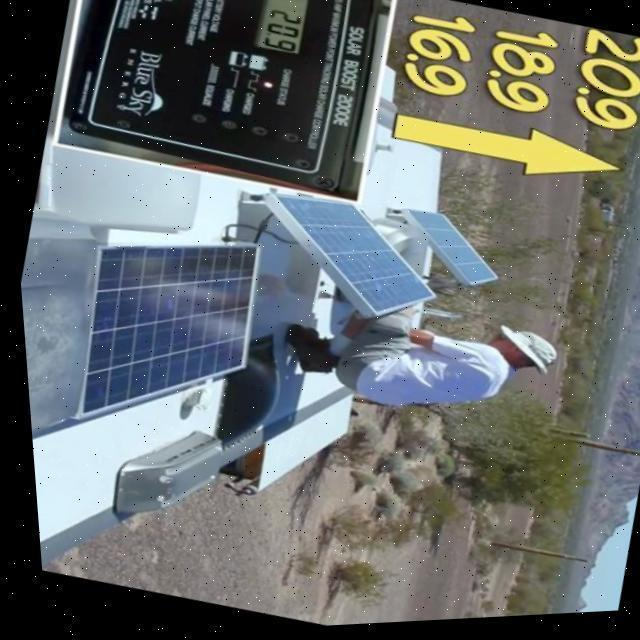Normal Solar Panel: (50, 208, 272, 453), (242, 182, 451, 336), (389, 207, 506, 299)
